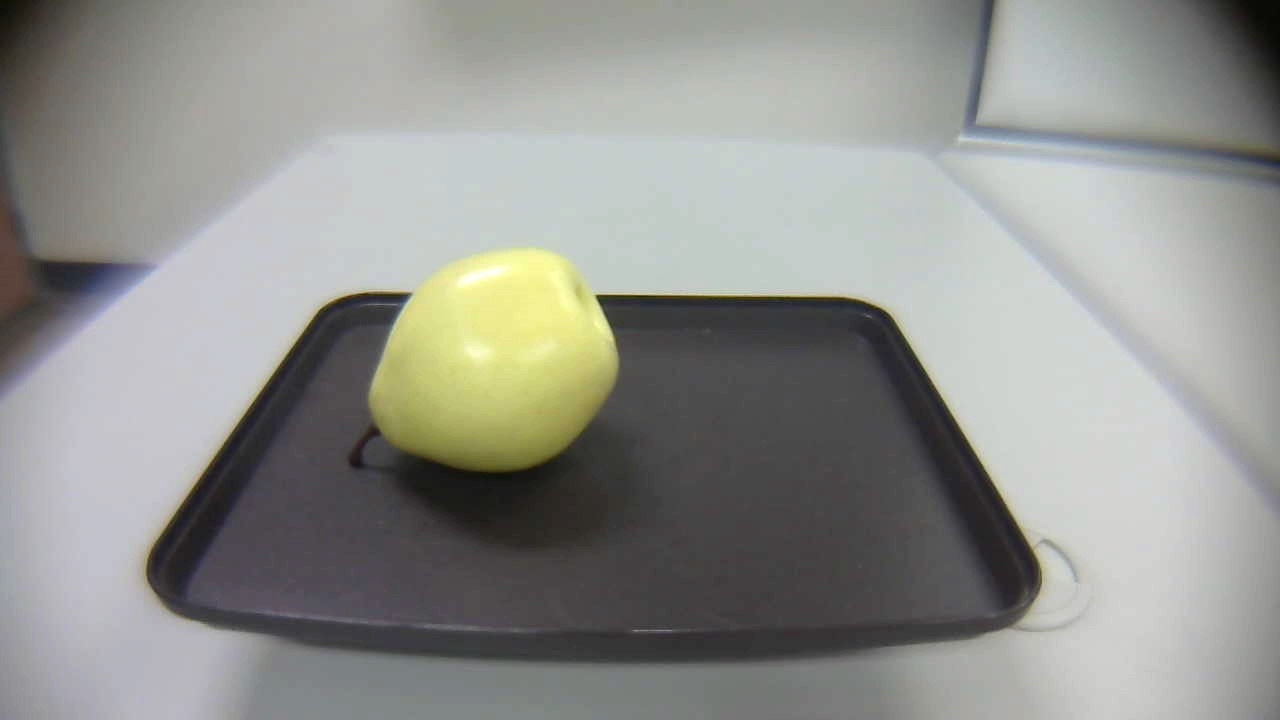western pear: (341, 245, 633, 480)
